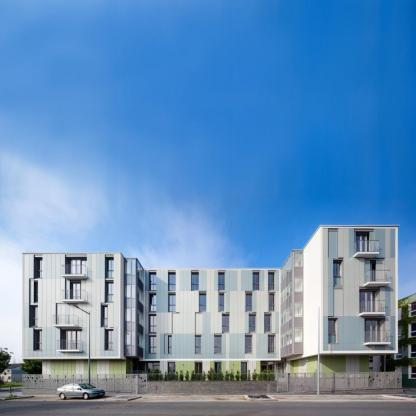Balcony: (365, 331, 390, 343), (354, 240, 379, 252), (365, 270, 390, 282), (360, 300, 385, 312), (62, 264, 88, 275), (62, 289, 88, 300), (52, 314, 78, 325), (57, 340, 83, 350)
Building Outline: (21, 225, 400, 389)
Door: (366, 321, 377, 343), (361, 291, 372, 313), (365, 261, 376, 283), (356, 234, 367, 256), (72, 259, 81, 278), (67, 331, 76, 349), (72, 283, 81, 301)
Facade: (21, 225, 400, 389)
Floor Slab: (145, 354, 279, 356), (23, 352, 136, 354), (23, 279, 136, 281), (23, 302, 136, 304), (23, 326, 136, 328), (323, 344, 398, 346), (323, 258, 398, 260), (323, 286, 398, 288), (323, 314, 398, 316), (145, 291, 279, 292), (145, 312, 279, 313), (145, 333, 279, 334)
Window: (281, 253, 292, 283), (281, 280, 292, 304), (281, 304, 292, 326), (281, 329, 292, 348), (148, 363, 159, 381), (328, 320, 336, 343), (333, 262, 341, 284), (137, 260, 143, 284), (106, 331, 113, 350), (31, 282, 38, 301), (31, 307, 38, 326), (37, 259, 44, 278), (35, 331, 42, 350), (107, 259, 114, 278), (261, 363, 268, 381), (107, 284, 114, 302), (168, 363, 175, 381), (195, 363, 202, 381), (268, 273, 275, 290), (267, 294, 274, 311), (218, 273, 225, 290), (218, 294, 225, 311), (245, 294, 252, 311), (192, 273, 199, 290), (222, 316, 229, 333), (245, 337, 252, 354), (81, 259, 87, 278), (137, 286, 143, 305), (295, 252, 303, 266), (295, 303, 303, 317), (137, 309, 143, 327), (215, 363, 221, 381), (295, 329, 303, 342), (253, 273, 259, 290), (150, 273, 156, 290), (169, 273, 175, 290), (169, 294, 175, 311), (200, 294, 206, 311), (150, 294, 156, 311), (265, 316, 271, 333), (268, 337, 274, 354), (150, 316, 156, 333), (249, 316, 255, 333), (195, 337, 201, 354), (215, 337, 221, 354), (137, 332, 143, 349), (150, 337, 156, 354), (295, 279, 303, 291), (103, 308, 108, 326), (241, 363, 246, 381), (125, 260, 131, 274), (125, 308, 131, 321), (77, 331, 81, 349), (125, 285, 131, 297), (125, 332, 131, 344), (168, 337, 172, 354), (132, 260, 135, 274), (132, 308, 135, 321), (132, 332, 135, 344), (132, 285, 135, 297)
